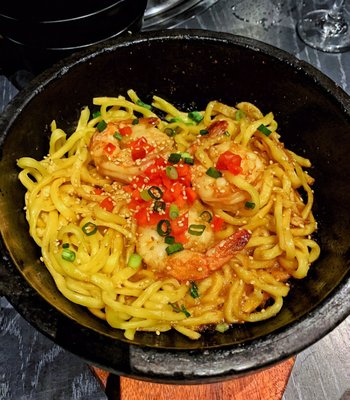pizza: (290, 0, 350, 53)
sushi: (6, 24, 350, 365)
